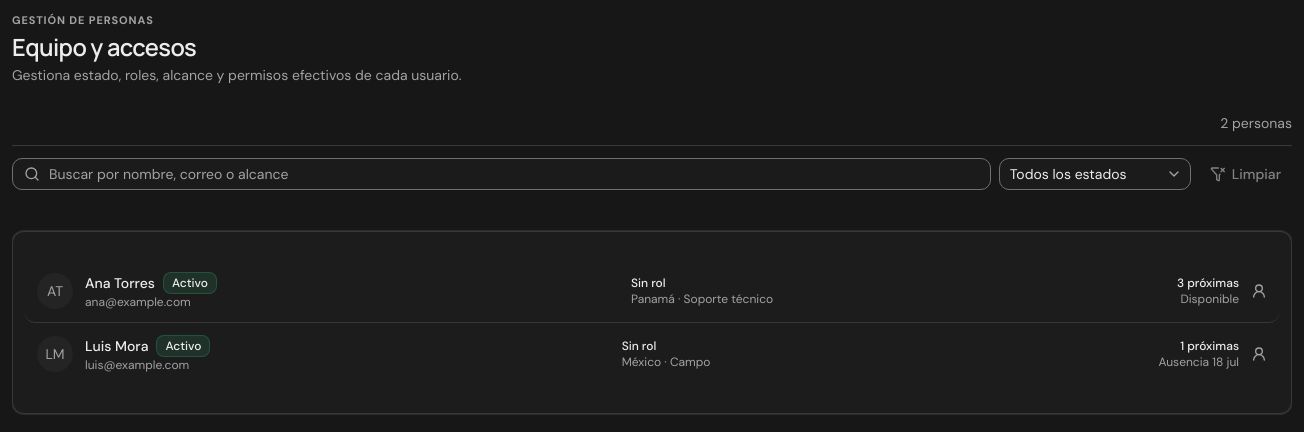
Test: TeamWorkspace › uses a surface-free operational toolbar and filters technicians
Step 1. Type "Ana" into the field named "Buscar personas" → (501, 174), box [12,158,991,190]
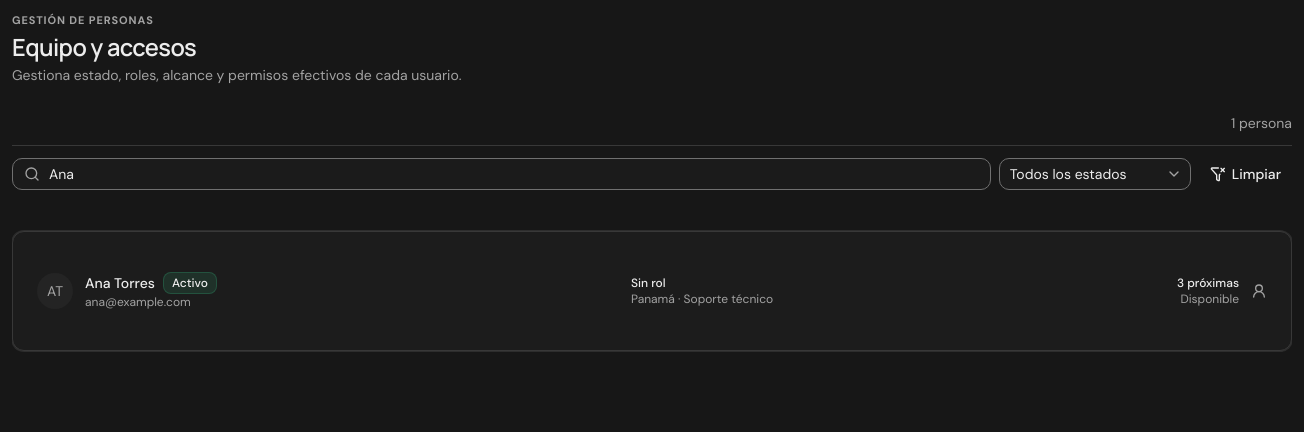
Expected: the text "Ana Torres" is shown, [85,273,155,293]
Expected: the button "Luis Mora" is gone
Expected: the text "1 persona" is shown, [1231,114,1292,132]
